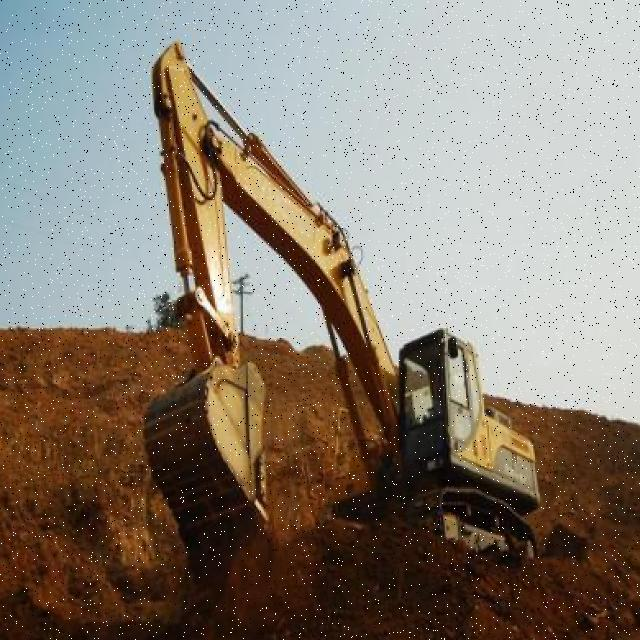Excavator: (123, 33, 551, 596)
